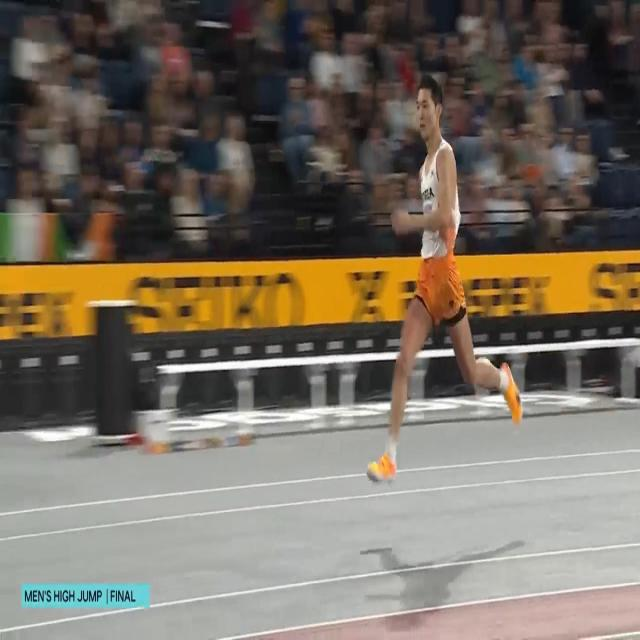run: (365, 71, 523, 485)
